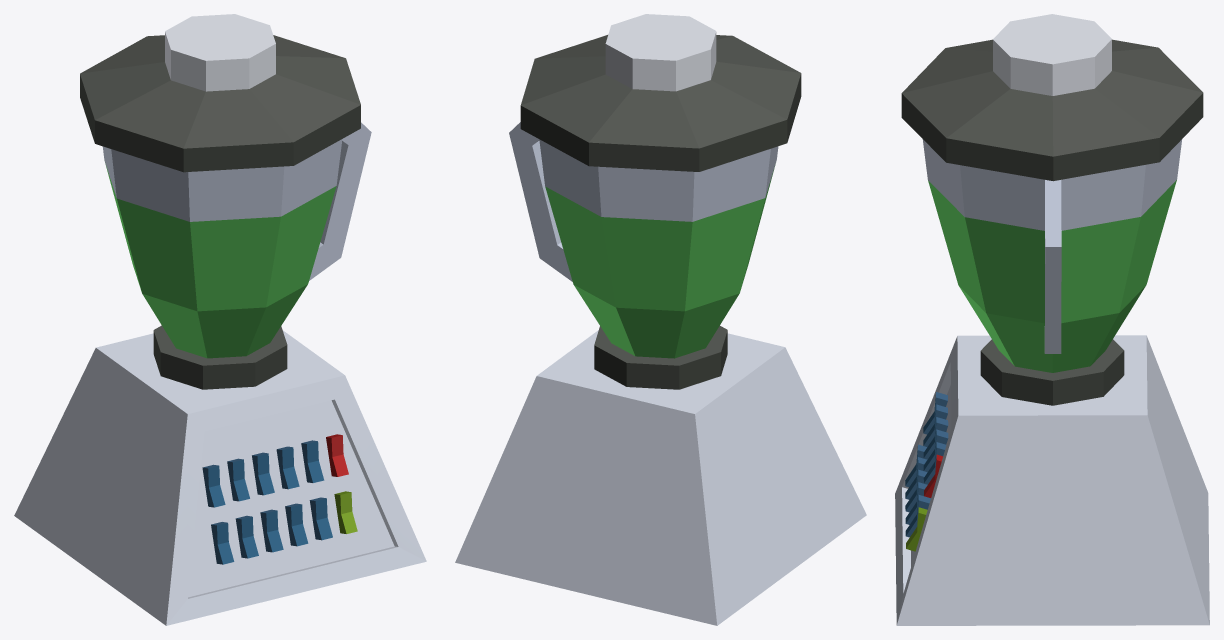
File: Blender.glb
3 renders of one model, left to right at view 1: azimuth 30°, elevation 25°; view 2: azimuth 150°, elevation 25°; view 3: azimuth 270°, elevation 25°, orthographic. The views are drawn at different scales.
Parts seen in each view (by area): view 1: Blender; view 2: Blender; view 3: Blender.
Part boxes in pixels (<box>): Blender: <box>14,14,426,625</box>; Blender: <box>455,14,866,625</box>; Blender: <box>895,14,1209,625</box>.
Size of what is drawn, in the model's own units: 0.3912 by 0.6717 by 0.3683.
1 material, 1 textured.
